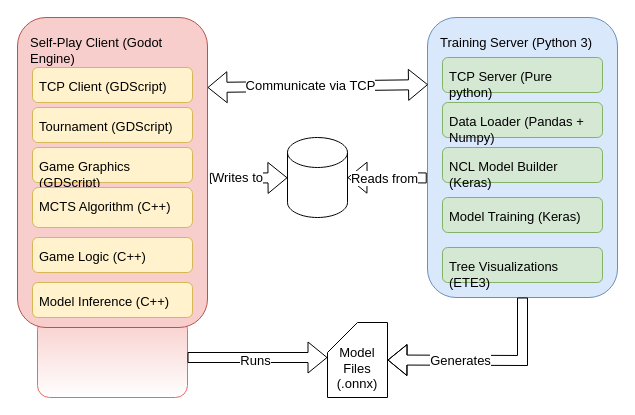
Some shapes in this 635 by 415 pixel diagram are drawn without their labels. The centre of each missing label's shape, as x and y in pixels:
500MB RAM Disk: point 317,177
ONNX Runtime (C++) [Native Third-party Library]: point 112,357
